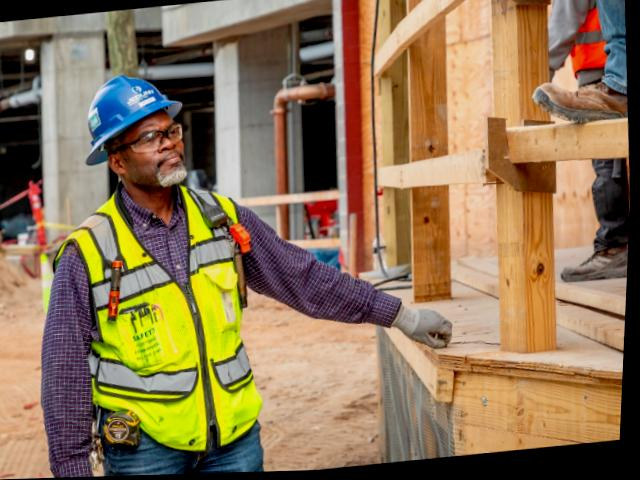helmet: (78, 73, 188, 152)
vest: (72, 192, 269, 453), (568, 0, 605, 78)
